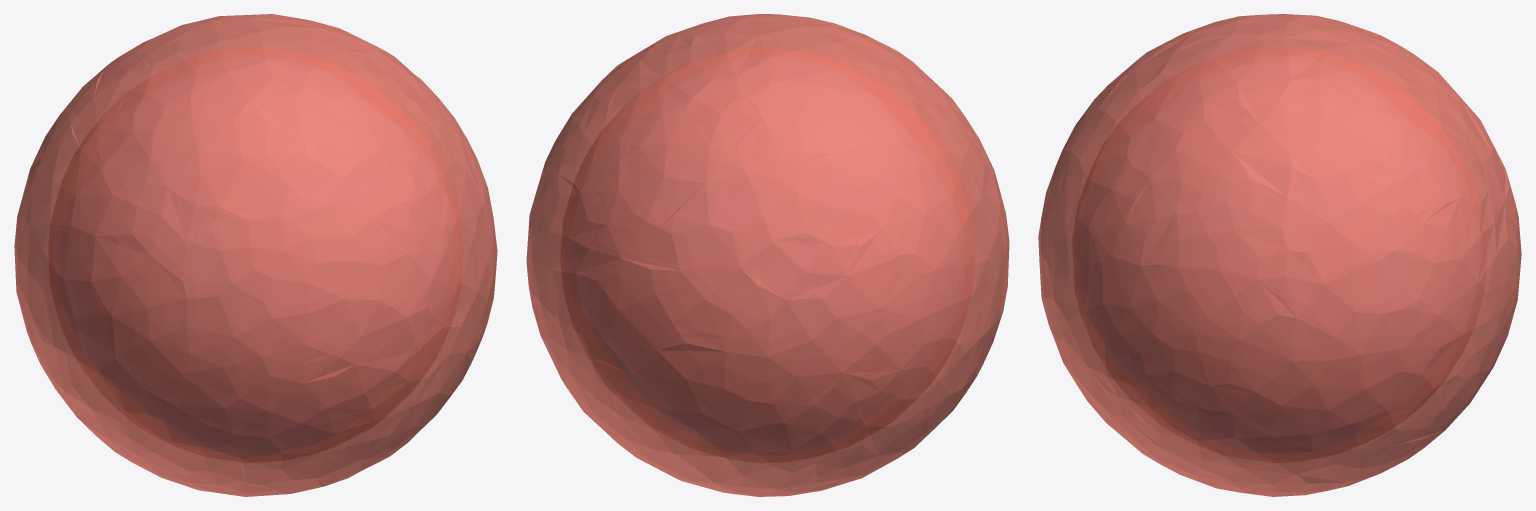
Rendered from orbital.glb.
The picture shows the model from 3 angles, left to right: view 1: azimuth 30°, elevation 25°; view 2: azimuth 150°, elevation 25°; view 3: azimuth 270°, elevation 25°; orthographic projection.
Parts seen in each view (by area): view 1: Pu_n7_s_ml0_node, Pu_n6_s_ml0_node; view 2: Pu_n7_s_ml0_node, Pu_n6_s_ml0_node; view 3: Pu_n7_s_ml0_node, Pu_n6_s_ml0_node.
Part boxes in pixels (x1,y1,x2,y2): Pu_n7_s_ml0_node: (14, 14, 497, 496); Pu_n6_s_ml0_node: (48, 48, 463, 462); Pu_n7_s_ml0_node: (526, 14, 1009, 496); Pu_n6_s_ml0_node: (560, 48, 975, 462); Pu_n7_s_ml0_node: (1038, 14, 1521, 496); Pu_n6_s_ml0_node: (1072, 48, 1487, 462).
Bounding box in the file's own units: 3.55 × 3.56 × 3.55.
